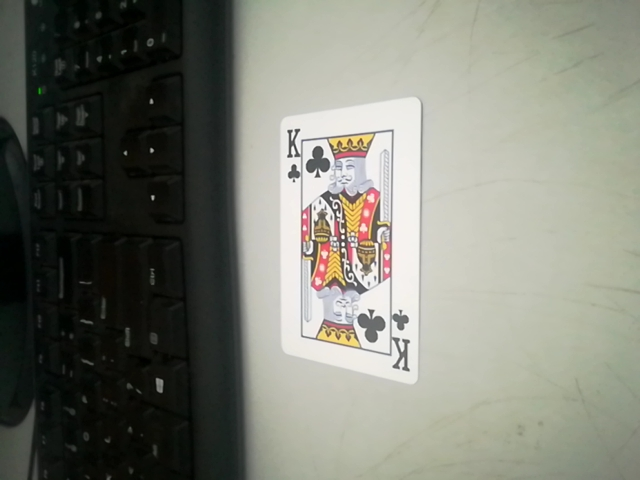mh k: (273, 105, 416, 381)
